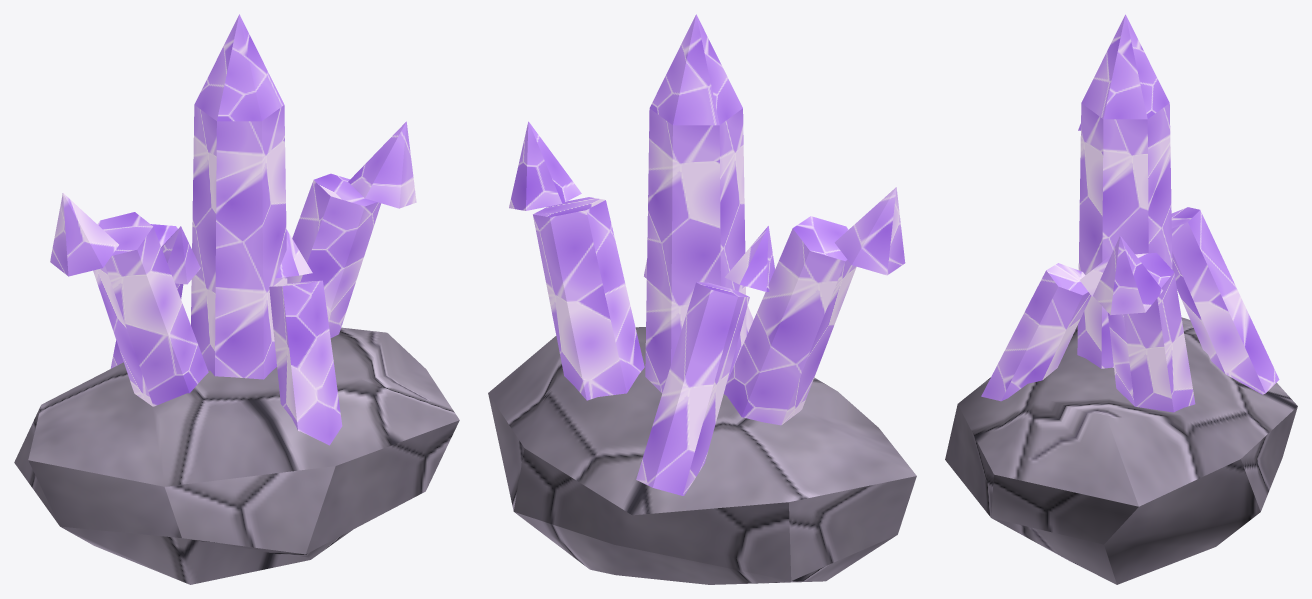
The model's file is eerie_crystal_cluster.gltf.
The picture shows the model from 3 angles, left to right: view 1: azimuth 30°, elevation 25°; view 2: azimuth 150°, elevation 25°; view 3: azimuth 270°, elevation 25°; orthographic projection. The views are drawn at different scales.
Parts seen in each view (by area): view 1: eerie_crystal_cluster_mesh; view 2: eerie_crystal_cluster_mesh; view 3: eerie_crystal_cluster_mesh.
Part boxes in pixels (bbox=[...]): eerie_crystal_cluster_mesh: bbox=[14, 14, 459, 584]; eerie_crystal_cluster_mesh: bbox=[488, 14, 916, 584]; eerie_crystal_cluster_mesh: bbox=[945, 14, 1297, 584].
Size of what is drawn, in the model's own units: 0.9355 by 1.19 by 0.7183.
Materials: 2 (2 with a texture image).
